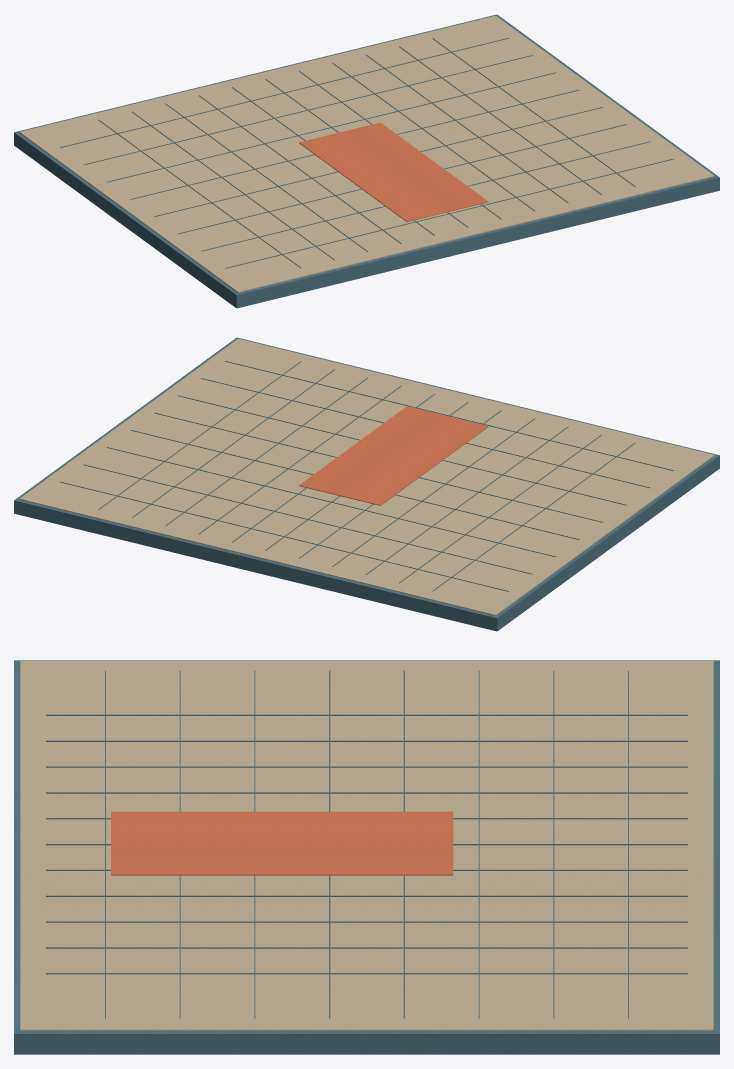
File: atlas100-s044-a07.glb
3 views of the same model, one above another, from view 1: azimuth 30°, elevation 25°; view 2: azimuth 150°, elevation 25°; view 3: azimuth 270°, elevation 25° (orthographic). The views are drawn at different scales.
Visible parts, largest first — view 1: atlas100-s044-a07:part-001, atlas100-s044-a07:part-000, atlas100-s044-a07:part-021, atlas100-s044-a07:part-015, atlas100-s044-a07:part-014, atlas100-s044-a07:part-013, atlas100-s044-a07:part-020, atlas100-s044-a07:part-017, atlas100-s044-a07:part-019, atlas100-s044-a07:part-016, atlas100-s044-a07:part-018; view 2: atlas100-s044-a07:part-001, atlas100-s044-a07:part-000, atlas100-s044-a07:part-021, atlas100-s044-a07:part-014, atlas100-s044-a07:part-013, atlas100-s044-a07:part-020, atlas100-s044-a07:part-015, atlas100-s044-a07:part-016, atlas100-s044-a07:part-019, atlas100-s044-a07:part-018, atlas100-s044-a07:part-017; view 3: atlas100-s044-a07:part-001, atlas100-s044-a07:part-000, atlas100-s044-a07:part-021, atlas100-s044-a07:part-002, atlas100-s044-a07:part-003, atlas100-s044-a07:part-004, atlas100-s044-a07:part-005, atlas100-s044-a07:part-009, atlas100-s044-a07:part-010, atlas100-s044-a07:part-011, atlas100-s044-a07:part-012, atlas100-s044-a07:part-014 (+1 smaller).
Boxes of the visible parts, bbox=[...] form: atlas100-s044-a07:part-001: bbox=[19, 15, 714, 292]; atlas100-s044-a07:part-000: bbox=[14, 14, 719, 308]; atlas100-s044-a07:part-021: bbox=[299, 122, 488, 221]; atlas100-s044-a07:part-015: bbox=[107, 72, 555, 182]; atlas100-s044-a07:part-014: bbox=[84, 55, 532, 164]; atlas100-s044-a07:part-013: bbox=[60, 38, 508, 147]; atlas100-s044-a07:part-020: bbox=[225, 158, 673, 268]; atlas100-s044-a07:part-017: bbox=[154, 107, 603, 216]; atlas100-s044-a07:part-019: bbox=[201, 141, 650, 251]; atlas100-s044-a07:part-016: bbox=[130, 89, 579, 199]; atlas100-s044-a07:part-018: bbox=[178, 124, 626, 234]; atlas100-s044-a07:part-001: bbox=[19, 338, 714, 615]; atlas100-s044-a07:part-000: bbox=[14, 337, 719, 631]; atlas100-s044-a07:part-021: bbox=[299, 406, 488, 505]; atlas100-s044-a07:part-014: bbox=[83, 464, 532, 574]; atlas100-s044-a07:part-013: bbox=[60, 481, 508, 591]; atlas100-s044-a07:part-020: bbox=[225, 361, 673, 470]; atlas100-s044-a07:part-015: bbox=[107, 447, 555, 557]; atlas100-s044-a07:part-016: bbox=[130, 430, 579, 539]; atlas100-s044-a07:part-019: bbox=[201, 378, 649, 487]; atlas100-s044-a07:part-018: bbox=[178, 395, 626, 505]; atlas100-s044-a07:part-017: bbox=[154, 412, 603, 522]; atlas100-s044-a07:part-001: bbox=[20, 661, 713, 1030]; atlas100-s044-a07:part-000: bbox=[14, 660, 719, 1054]; atlas100-s044-a07:part-021: bbox=[111, 811, 453, 875]; atlas100-s044-a07:part-002: bbox=[46, 714, 687, 715]; atlas100-s044-a07:part-003: bbox=[46, 740, 687, 741]; atlas100-s044-a07:part-004: bbox=[46, 766, 687, 767]; atlas100-s044-a07:part-005: bbox=[46, 792, 687, 793]; atlas100-s044-a07:part-009: bbox=[46, 895, 687, 896]; atlas100-s044-a07:part-010: bbox=[46, 921, 687, 922]; atlas100-s044-a07:part-011: bbox=[46, 947, 687, 948]; atlas100-s044-a07:part-012: bbox=[46, 973, 687, 974]; atlas100-s044-a07:part-014: bbox=[553, 670, 554, 1018].
Size of the model in its own units: 13.02 by 0.404 by 10.4.
Materials: 3 (3 with a texture image).
